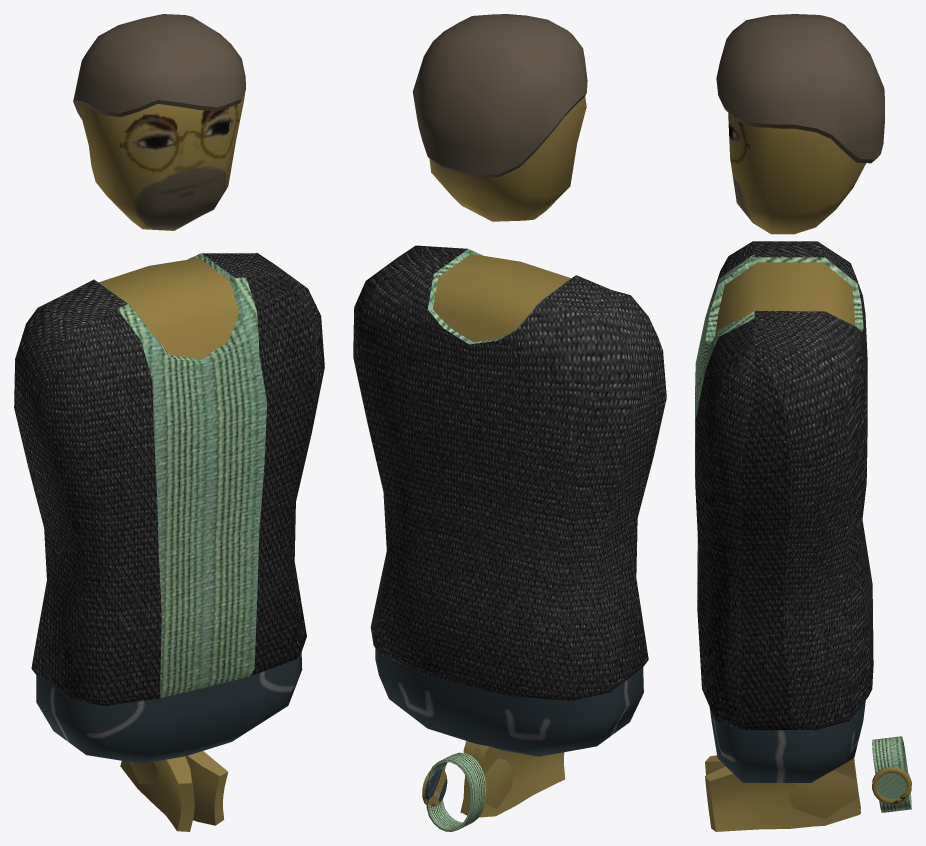
File: Avatar5.fbx
3 renders of one model, left to right at view 1: azimuth 30°, elevation 25°; view 2: azimuth 150°, elevation 25°; view 3: azimuth 270°, elevation 25°, orthographic. The views are drawn at different scales.
Parts seen in each view (by area): view 1: Body5, Head5, Hair5, HandL, HandR; view 2: Body5, Hair5, Head5, HandL, Watch, HandR; view 3: Body5, Hair5, Head5, HandR, Watch, HandL.
Part boxes in pixels (box(x1,y1,x2,y2)): Body5: box(14, 253, 324, 763); Head5: box(79, 92, 245, 230); Hair5: box(73, 14, 245, 118); HandL: box(120, 756, 194, 831); HandR: box(129, 751, 228, 825); Body5: box(353, 245, 666, 756); Hair5: box(412, 14, 587, 177); Head5: box(429, 96, 586, 221); HandL: box(463, 743, 565, 817); Watch: box(422, 752, 486, 831); HandR: box(460, 741, 514, 816); Body5: box(695, 241, 873, 782); Hair5: box(716, 14, 884, 163); Head5: box(728, 113, 866, 234); HandR: box(705, 758, 860, 831); Watch: box(872, 736, 911, 812); HandL: box(705, 755, 860, 826).
Size of the model in its own units: 46.46 by 125 by 30.88.
Materials: 4 (2 with a texture image).
